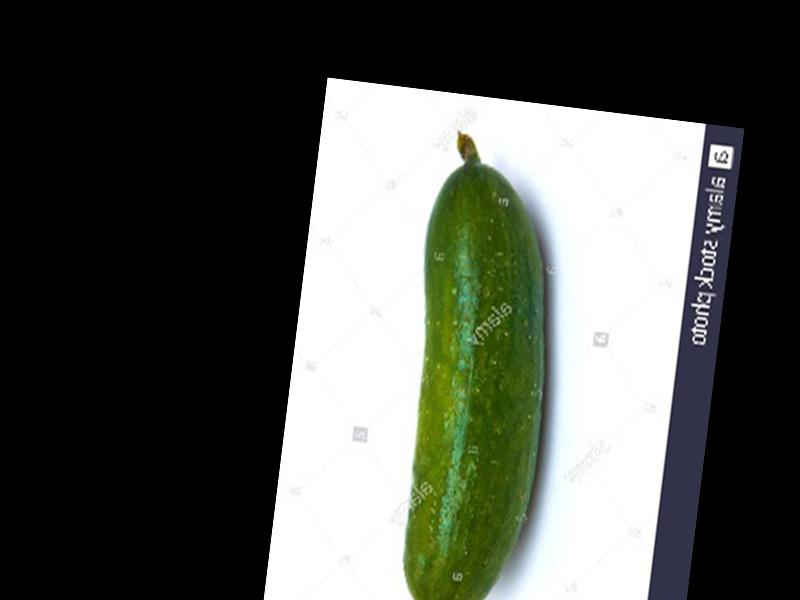Cucumber: (379, 128, 574, 600)
